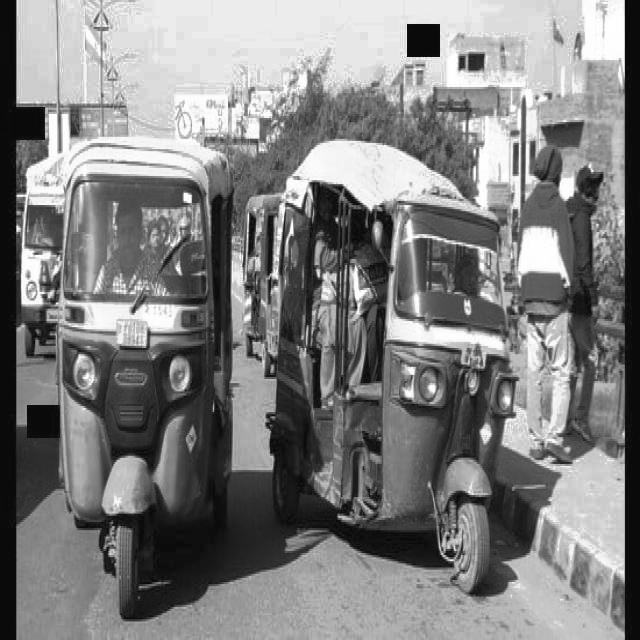Auto-Rickshaw: (263, 126, 509, 612), (46, 122, 260, 626)
